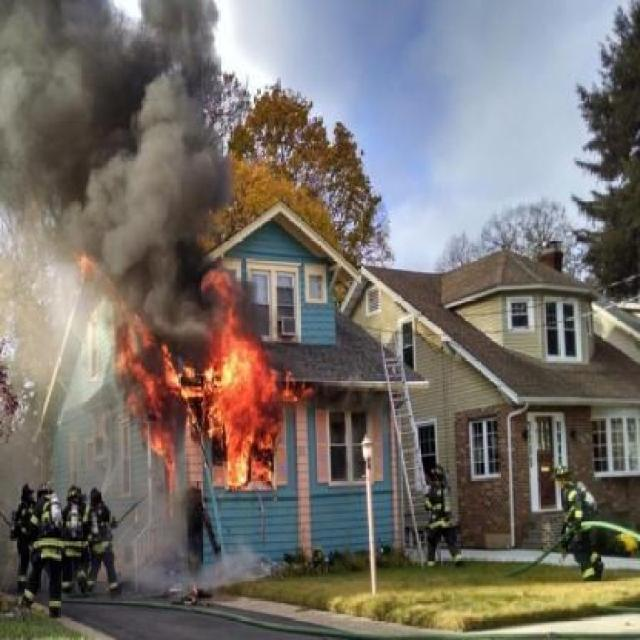Fire: (73, 256, 289, 492)
Smoke: (5, 13, 227, 266)
